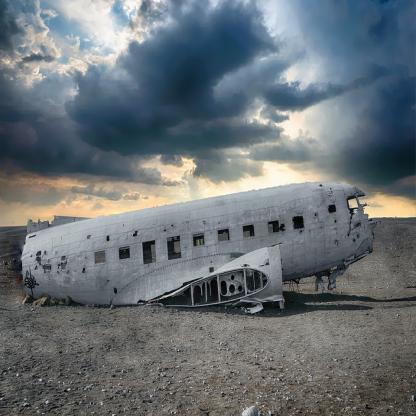CIV_Plane: (19, 178, 377, 336)
